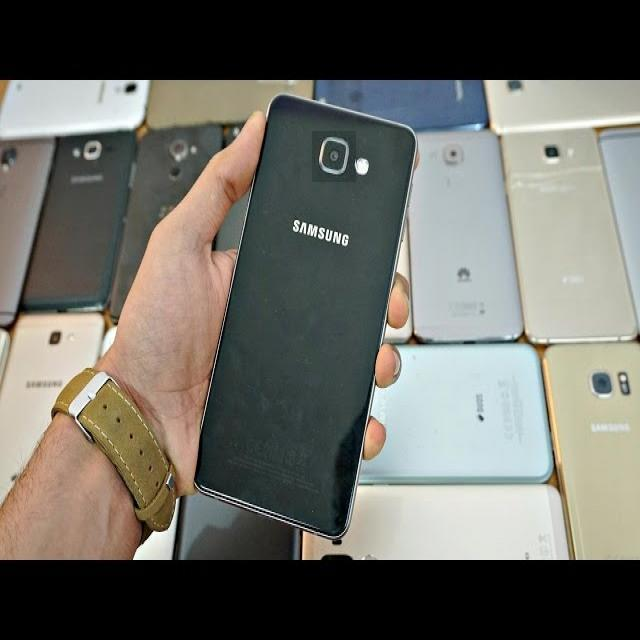Mobile: (196, 98, 414, 535)
